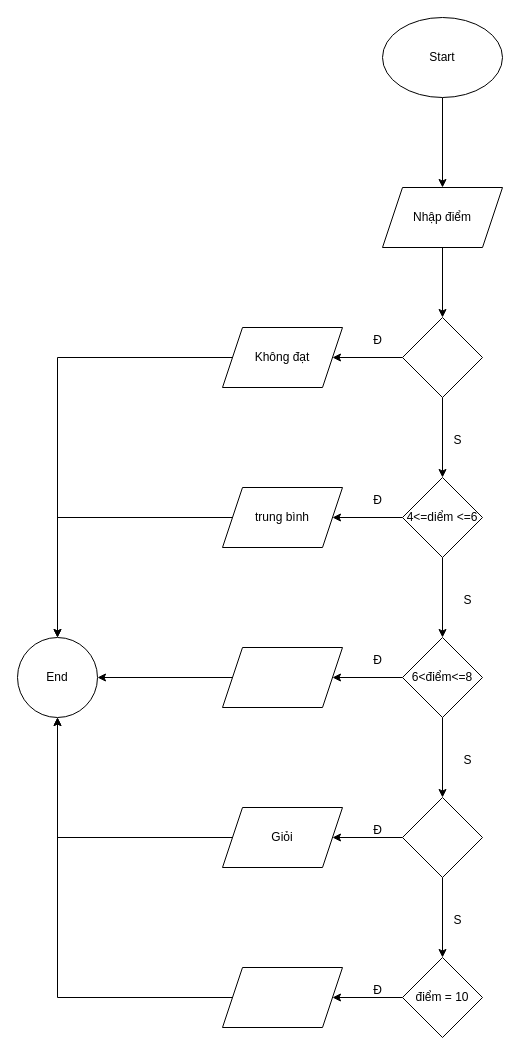
The diagram is 520 pixels wide and 1055 high, and some of its shapes have lost their labels. The box of each missing label's shape, as (x1, y1, x2, y2) in pixels:
8<điểm<=9: (402, 796, 482, 878)
diểm < 4: (402, 316, 482, 398)
khá: (222, 646, 342, 708)
Xuất sắc: (222, 966, 342, 1028)
